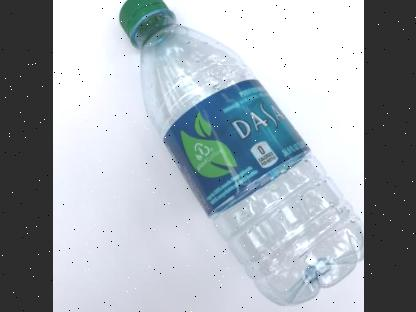Plastic Bottle: (118, 0, 364, 306)
